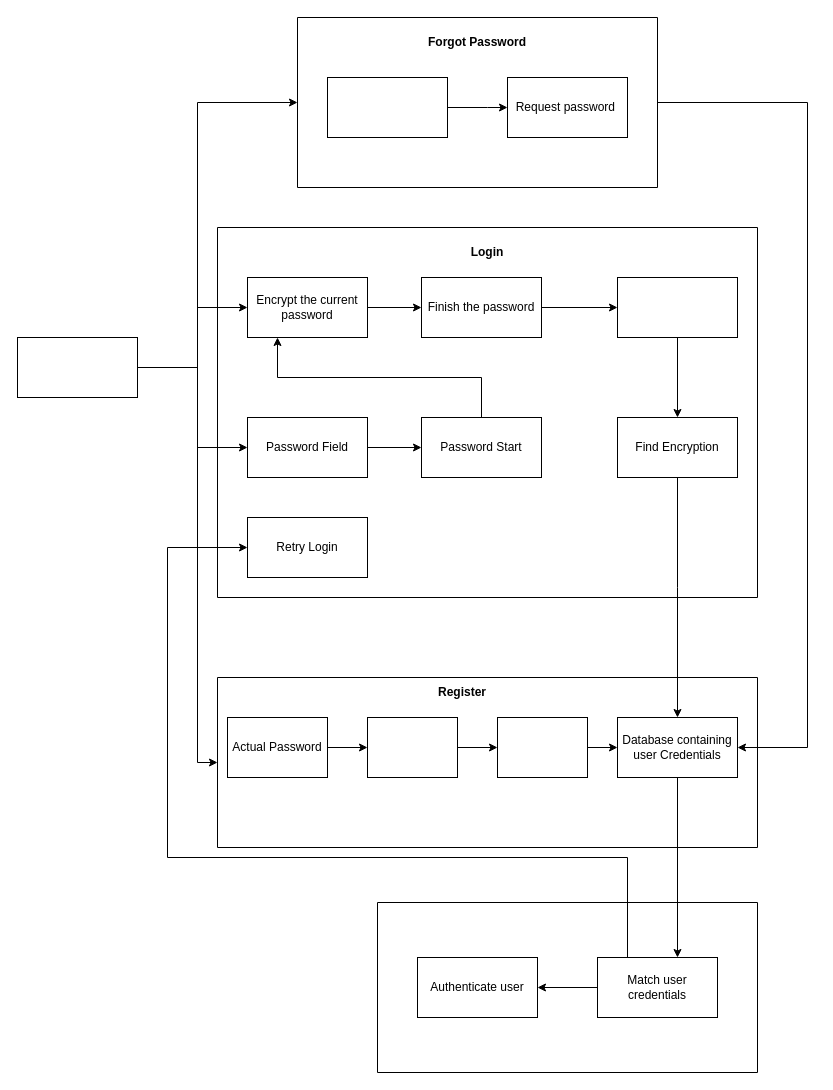
Some shapes in this 833 by 1090 pixel diagram are drawn without their labels. The box of each missing label's shape, as (x1, y1, x2, y2) in pixels:
Authentication: (376, 902, 758, 1072)
Email: (496, 716, 588, 778)
Encrypted password: (366, 716, 458, 778)
Enter Username: (326, 76, 448, 138)
Hit Login: (616, 276, 738, 338)
User Login: (16, 336, 138, 398)
